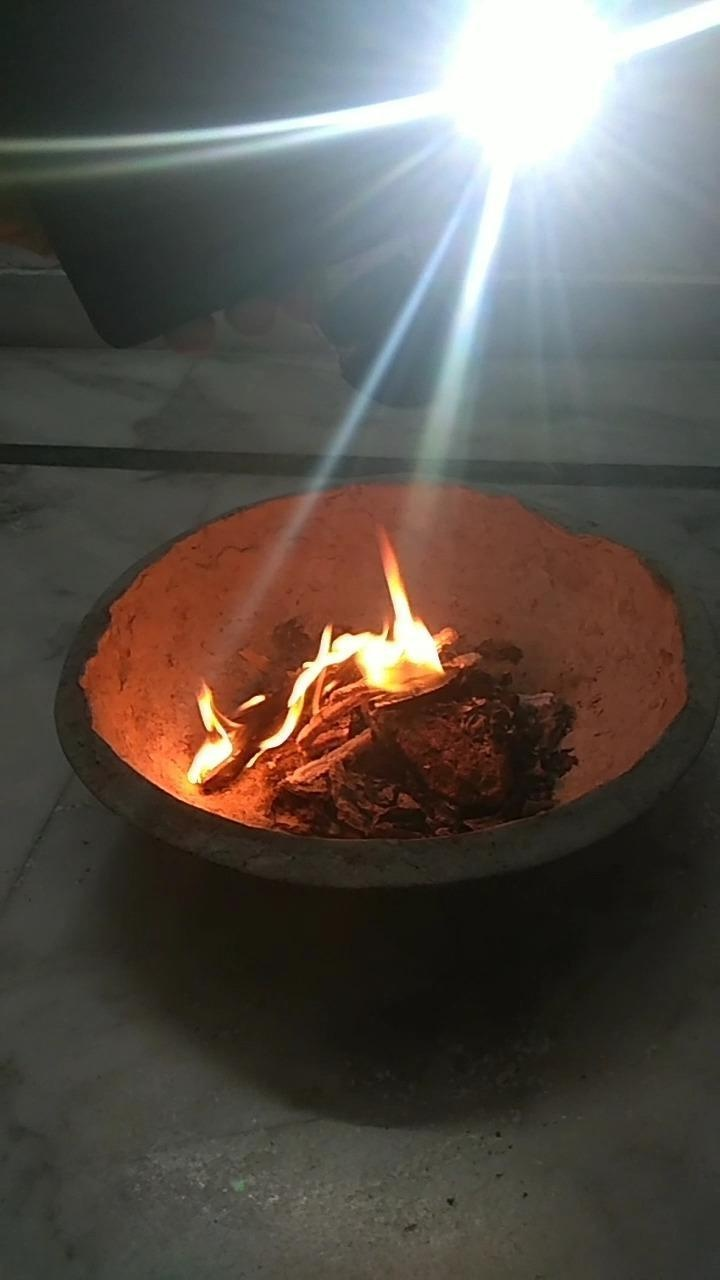fire: (287, 484, 440, 699)
